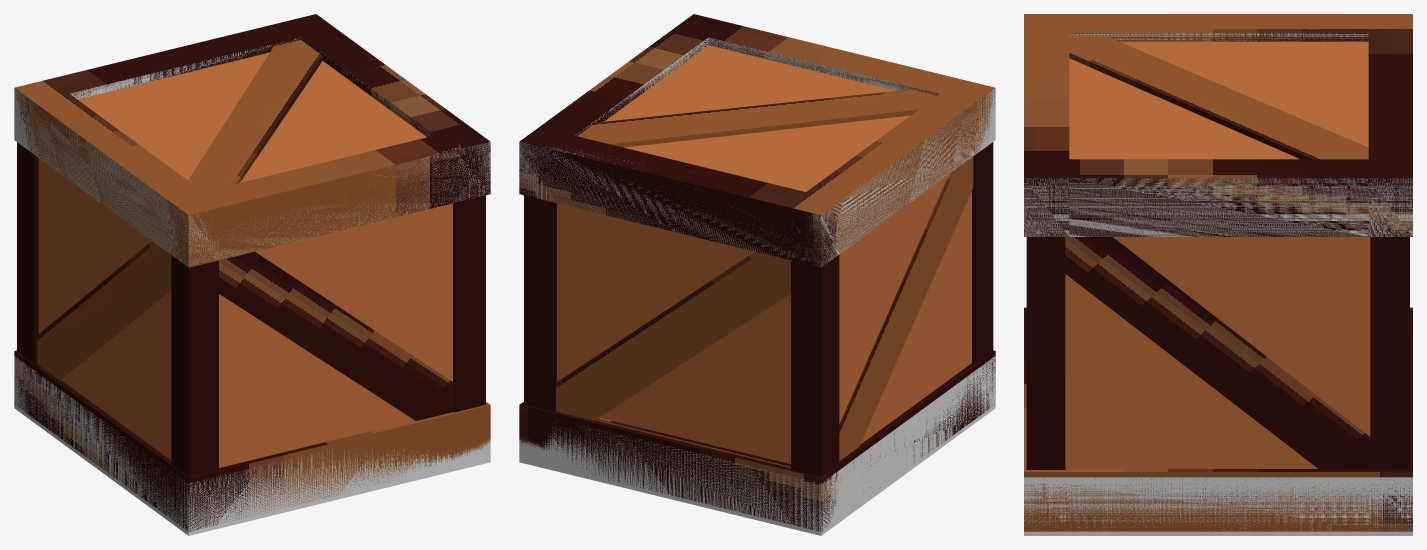
3 views of the same model, side by side, from view 1: azimuth 30°, elevation 25°; view 2: azimuth 150°, elevation 25°; view 3: azimuth 270°, elevation 25° (orthographic). The views are drawn at different scales.
Parts seen in each view (by area): view 1: Cube, Cube.006; view 2: Cube, Cube.006; view 3: Cube, Cube.006.
Boxes of the visible parts, x1,y1,x2,y2 form: Cube: (14, 14, 490, 531); Cube.006: (14, 37, 490, 535); Cube: (519, 14, 995, 531); Cube.006: (519, 37, 995, 535); Cube: (1024, 14, 1412, 531); Cube.006: (1024, 33, 1412, 535).
Bounding box in the file's own units: 207 × 210 × 207.
4 materials, 4 textured.
